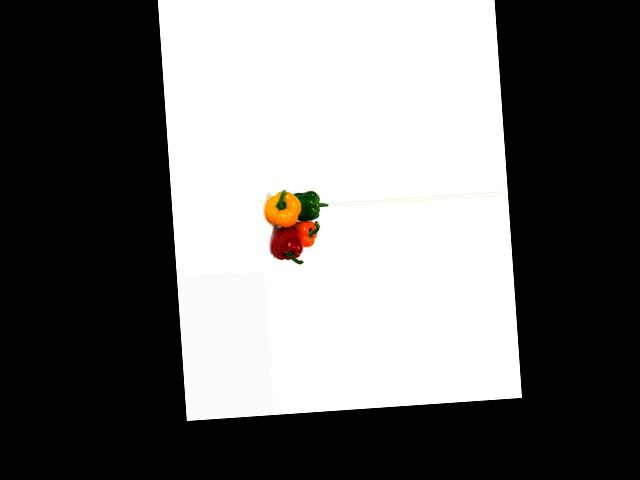bell_pepper: (262, 186, 302, 230)
